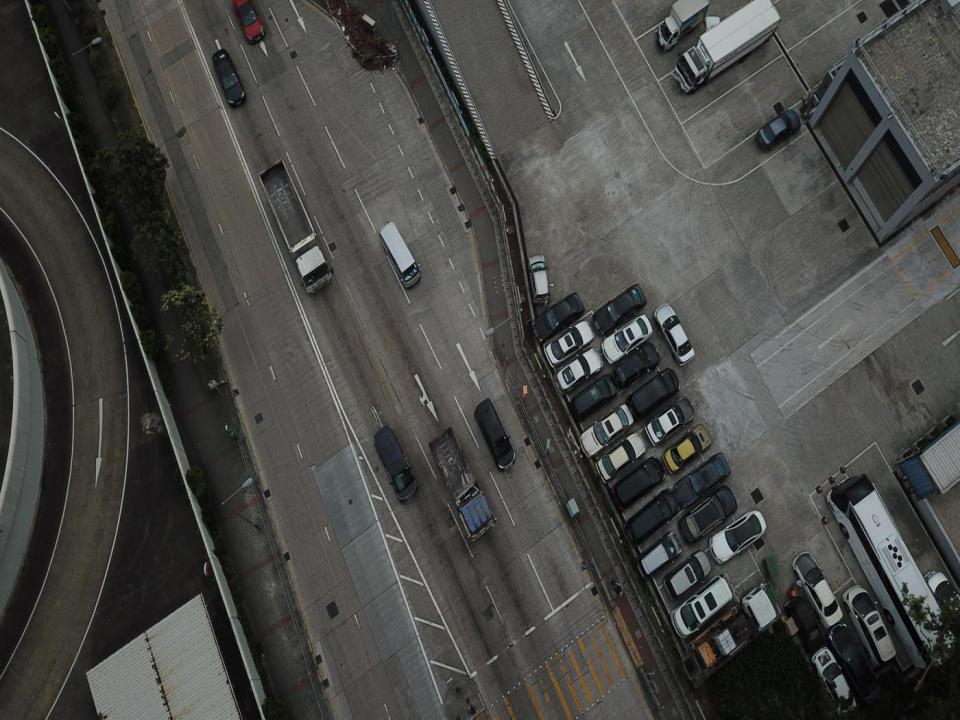bus: (827, 470, 954, 670)
car: (842, 581, 898, 670), (793, 548, 844, 629), (672, 574, 733, 638), (679, 485, 738, 546), (813, 643, 862, 715), (708, 508, 767, 566), (579, 403, 634, 460), (625, 487, 680, 544), (676, 452, 732, 507), (612, 455, 666, 512), (591, 283, 647, 337), (627, 369, 682, 420), (596, 430, 647, 485), (532, 291, 586, 342), (653, 302, 695, 366), (601, 312, 652, 363), (646, 396, 696, 448), (663, 424, 713, 474), (665, 551, 714, 600), (543, 320, 594, 367), (211, 47, 248, 108), (555, 346, 603, 392), (636, 530, 682, 578), (569, 373, 619, 417), (614, 342, 658, 388), (755, 108, 801, 149), (234, 0, 266, 47), (528, 251, 551, 305)
truck: (669, 0, 780, 95), (259, 157, 334, 296), (427, 424, 497, 542), (654, 0, 709, 52)
van: (371, 425, 418, 505), (474, 397, 516, 472), (378, 219, 422, 290)
